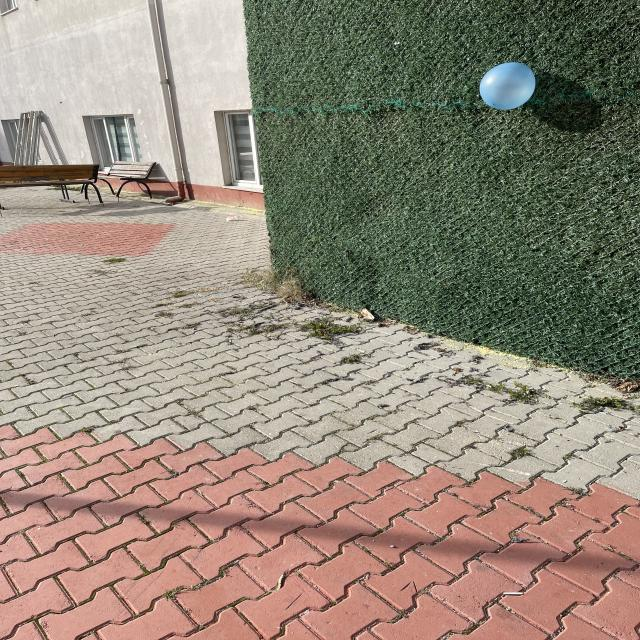balloon: (480, 62, 535, 110)
